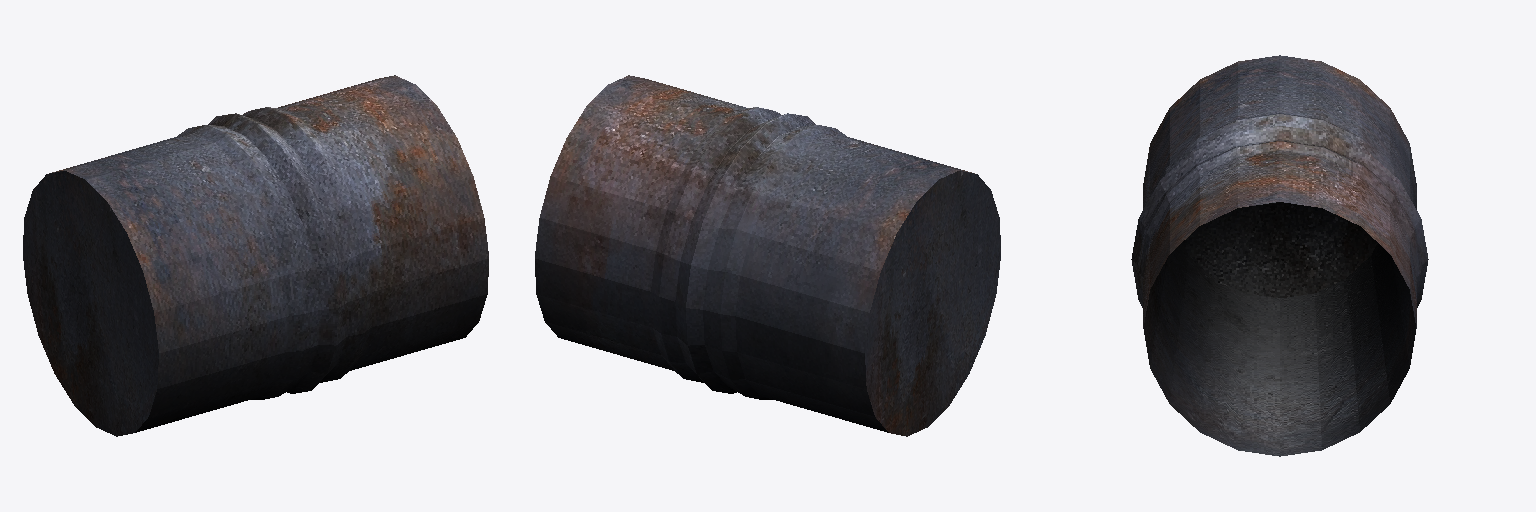
The picture shows the model from 3 angles: view 1: azimuth 30°, elevation 25°; view 2: azimuth 150°, elevation 25°; view 3: azimuth 270°, elevation 25°; orthographic projection.
Parts seen in each view (by area): view 1: Cylinder01; view 2: Cylinder01; view 3: Cylinder01.
Boxes of the visible parts, x1=… form: Cylinder01: x1=23, y1=75, x2=488, y2=436; Cylinder01: x1=535, y1=75, x2=1000, y2=436; Cylinder01: x1=1131, y1=55, x2=1428, y2=456.
Size of the model in its own units: 1.5 by 1.11 by 1.13.
1 materials, 1 textured.